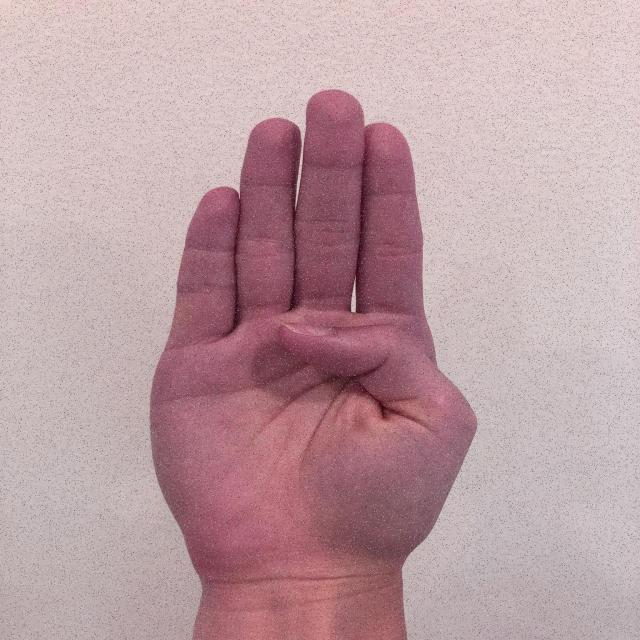B: (142, 82, 486, 594)
